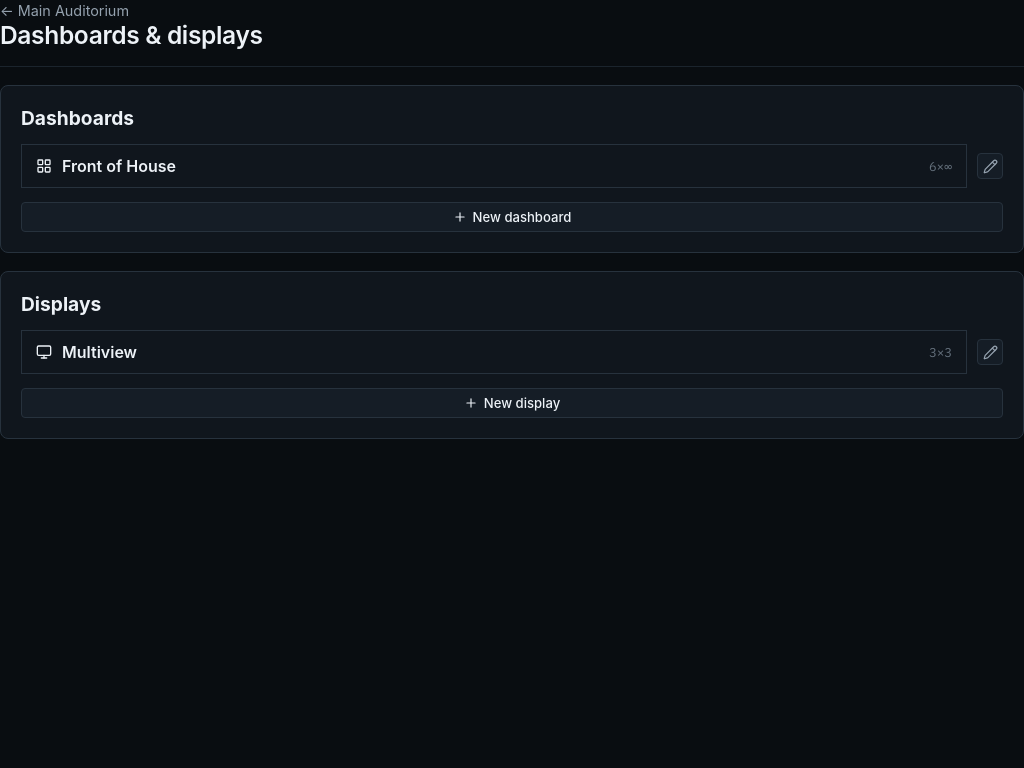
ViewsIndex › surfaces a refusal from the server instead of closing on nothing
Click the button "New dashboard" at (512, 217), box [21,202,1003,232]
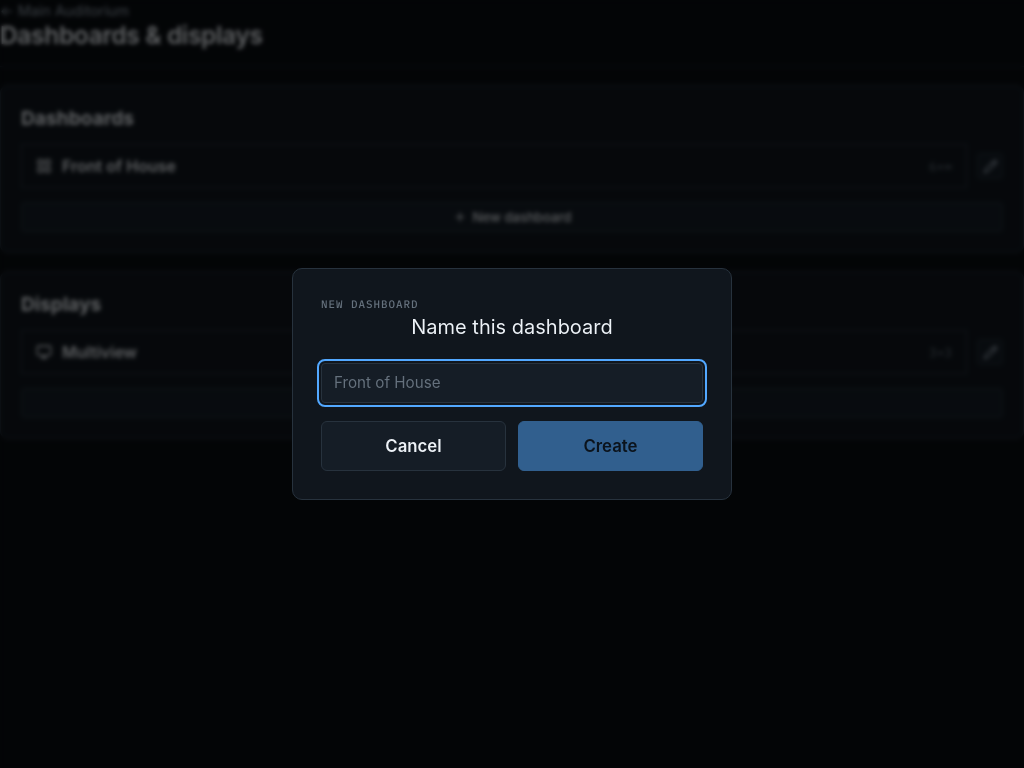
Type "FOH" into the field named "Name" at (512, 383), box [321,363,703,403]
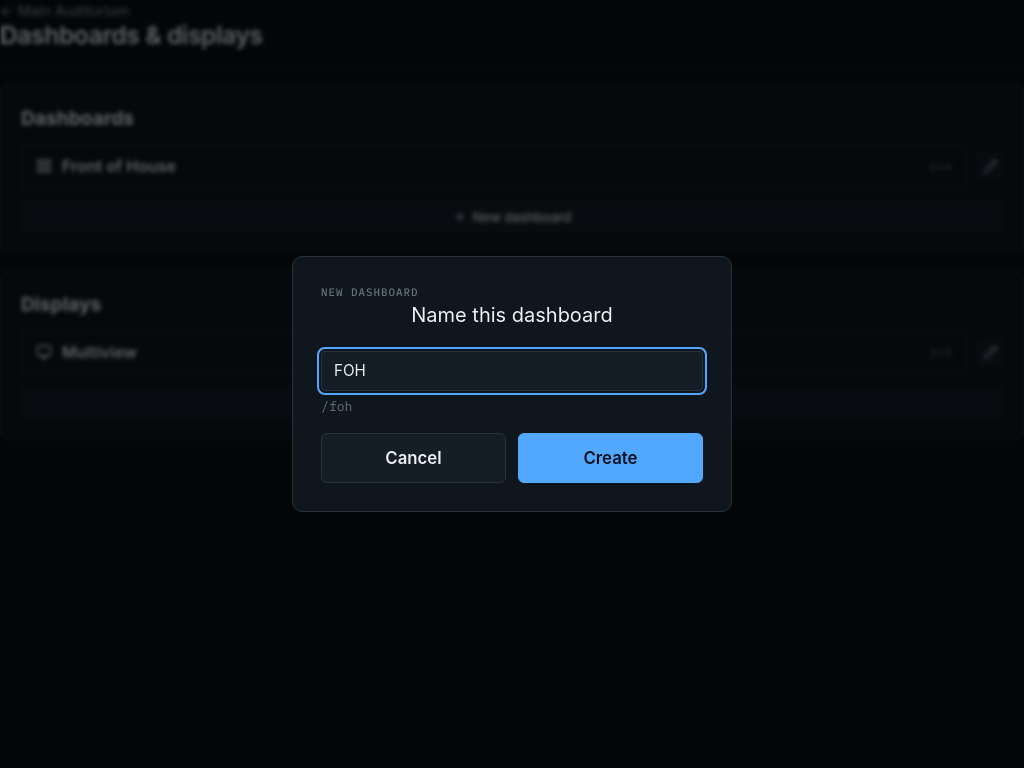
Click the button "Create" at (610, 458), box [518,433,703,483]
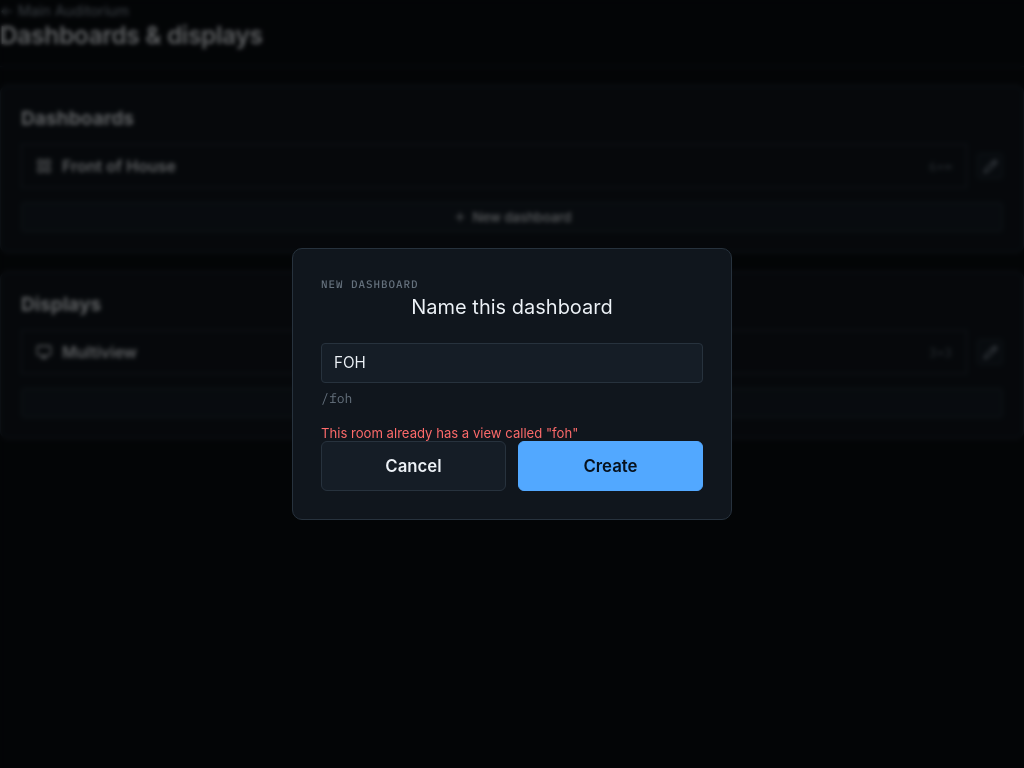
Expected: the text "This room already has a view called \"foh\"" is shown, [321,425,578,441]
